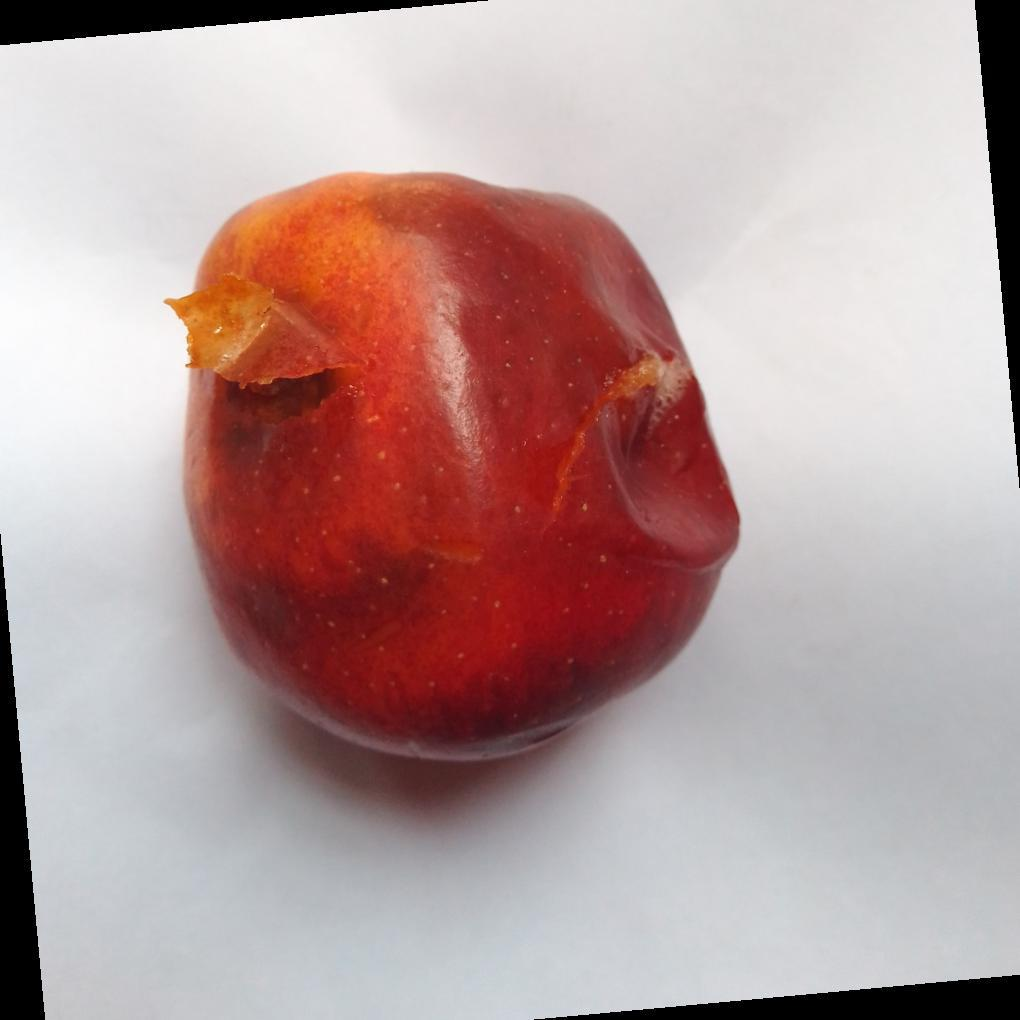FreshOrange: (167, 172, 742, 768)
